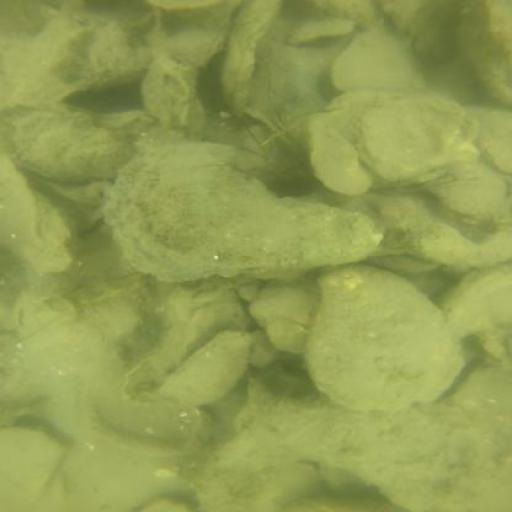Oyster-Closed: (105, 139, 379, 281), (190, 398, 512, 512), (306, 265, 463, 413), (125, 288, 251, 409), (1, 100, 133, 180), (303, 92, 400, 196), (160, 331, 249, 407), (333, 28, 423, 91), (459, 2, 511, 110), (443, 265, 511, 346), (199, 463, 319, 508), (3, 426, 62, 512), (438, 174, 512, 223), (249, 274, 319, 324)
Oyster-Open: (366, 98, 481, 190)
